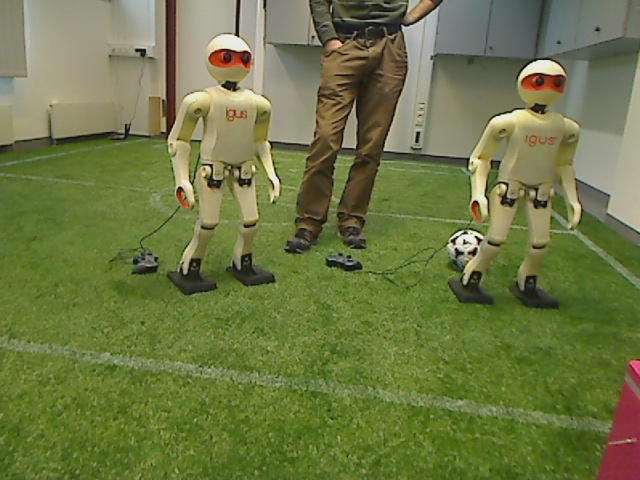ball: (443, 226, 489, 273)
robot: (459, 57, 584, 313), (166, 31, 286, 297)
